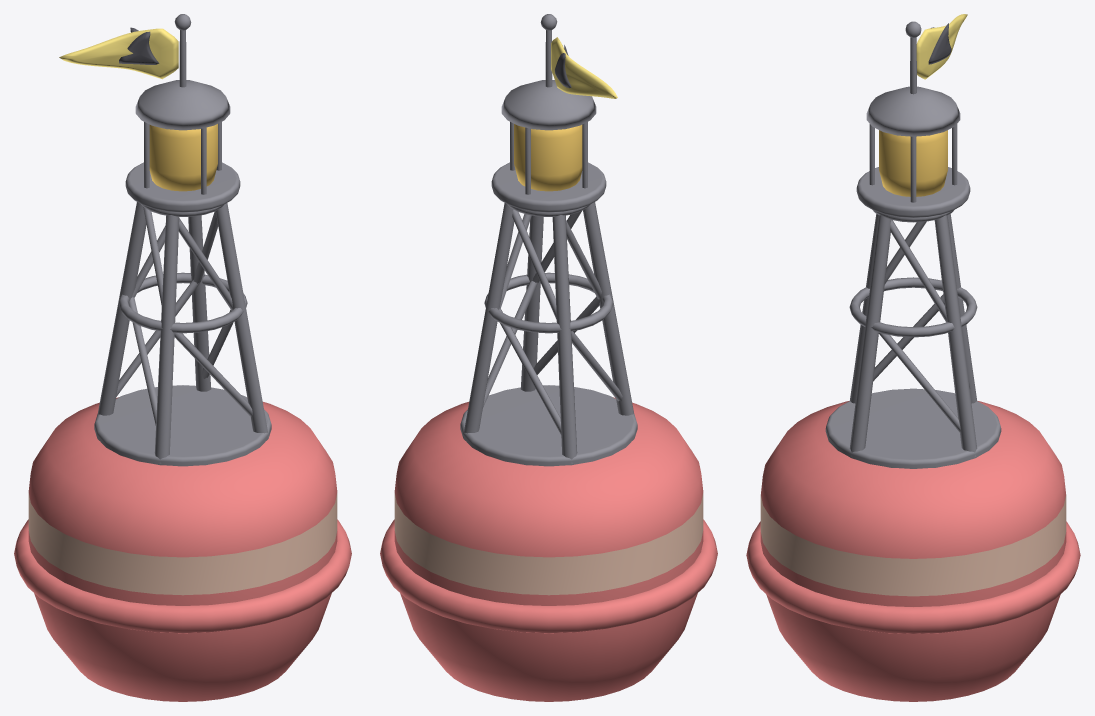
Rendered from SharkBaitBuoy.glb.
The picture shows the model from 3 angles, left to right: view 1: azimuth 30°, elevation 25°; view 2: azimuth 150°, elevation 25°; view 3: azimuth 270°, elevation 25°; orthographic projection.
Parts seen in each view (by area): view 1: Float, Cage, Stripe, Lamp, Flag, FlagMark; view 2: Float, Cage, Stripe, Lamp, Flag; view 3: Float, Cage, Stripe, Lamp, Flag.
Boxes of the visible parts, x1,y1,x2,y2 form: Float: (14,397,351,701); Cage: (94,14,271,466); Stripe: (28,493,337,595); Lamp: (149,124,217,191); Flag: (59,28,178,79); FlagMark: (119,27,159,64); Float: (380,397,717,701); Cage: (460,14,637,466); Stripe: (394,493,703,595); Lamp: (514,124,582,191); Flag: (551,37,617,98); Float: (746,401,1080,701); Cage: (825,21,1001,468); Stripe: (760,495,1066,596); Lamp: (879,130,947,196); Flag: (916,14,967,79).
Bounding box in the file's own units: 3.24 × 7 × 3.24.
